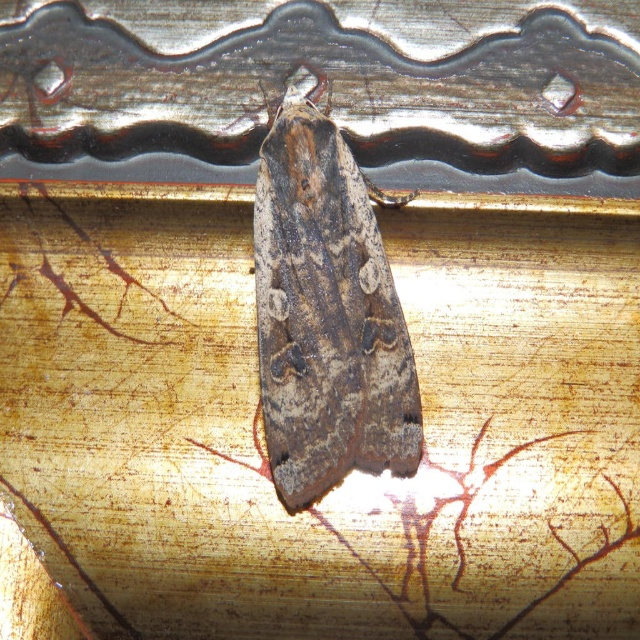Moths and butterflies: (250, 79, 422, 514)
